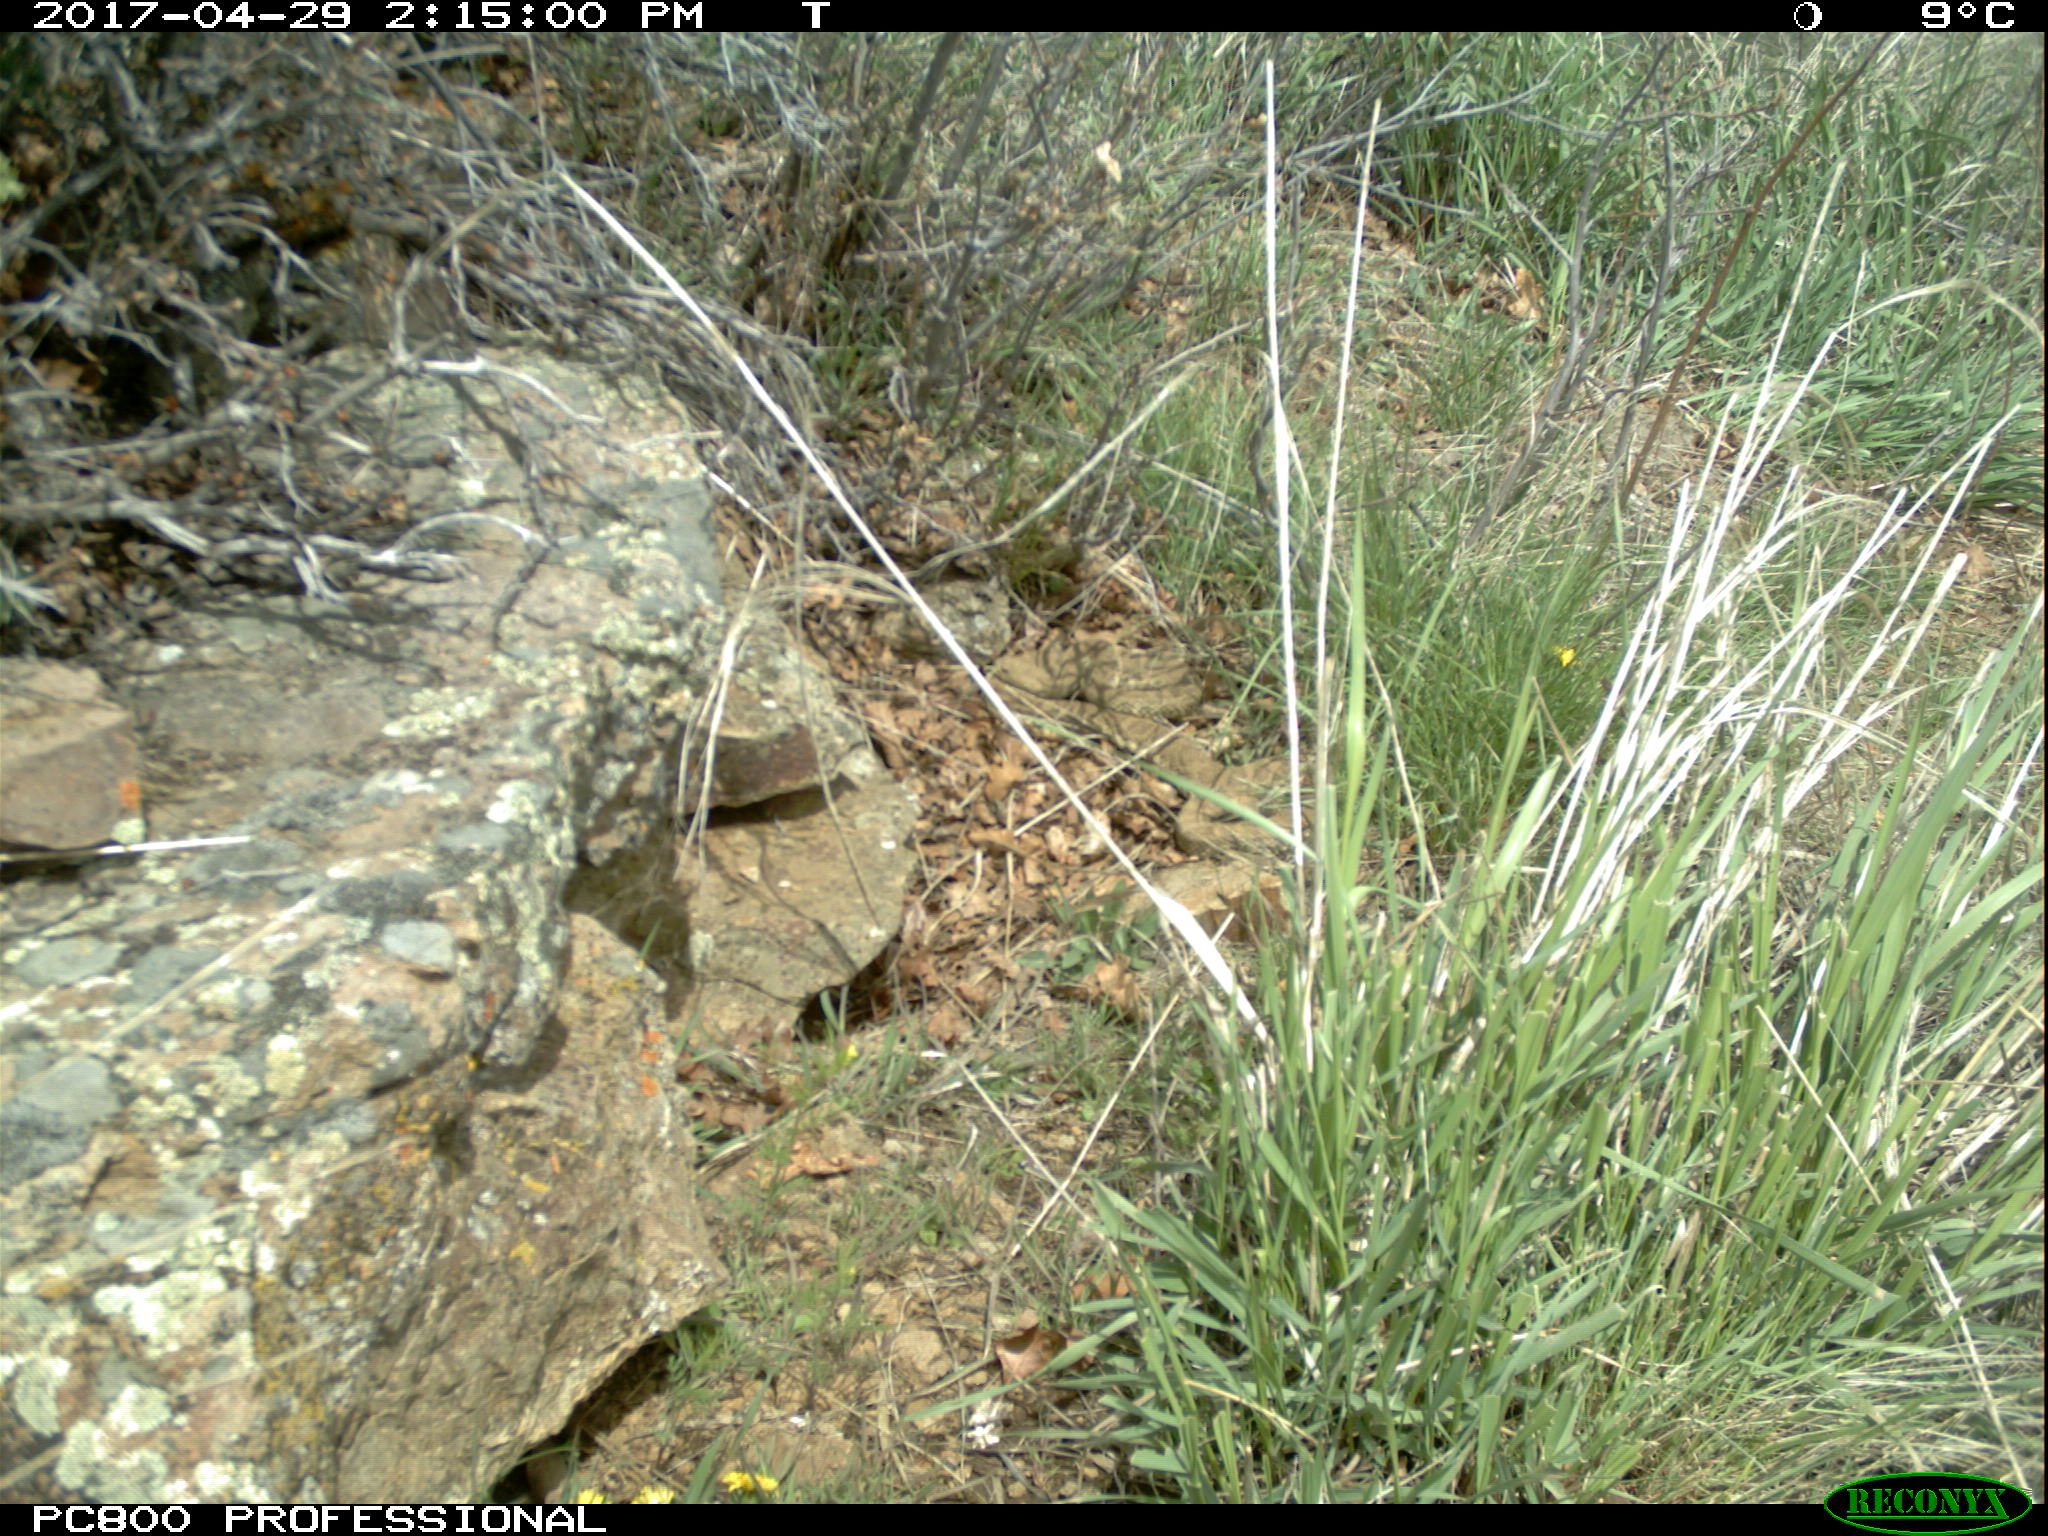snake: (1134, 731, 1306, 878), (980, 637, 1205, 731)
